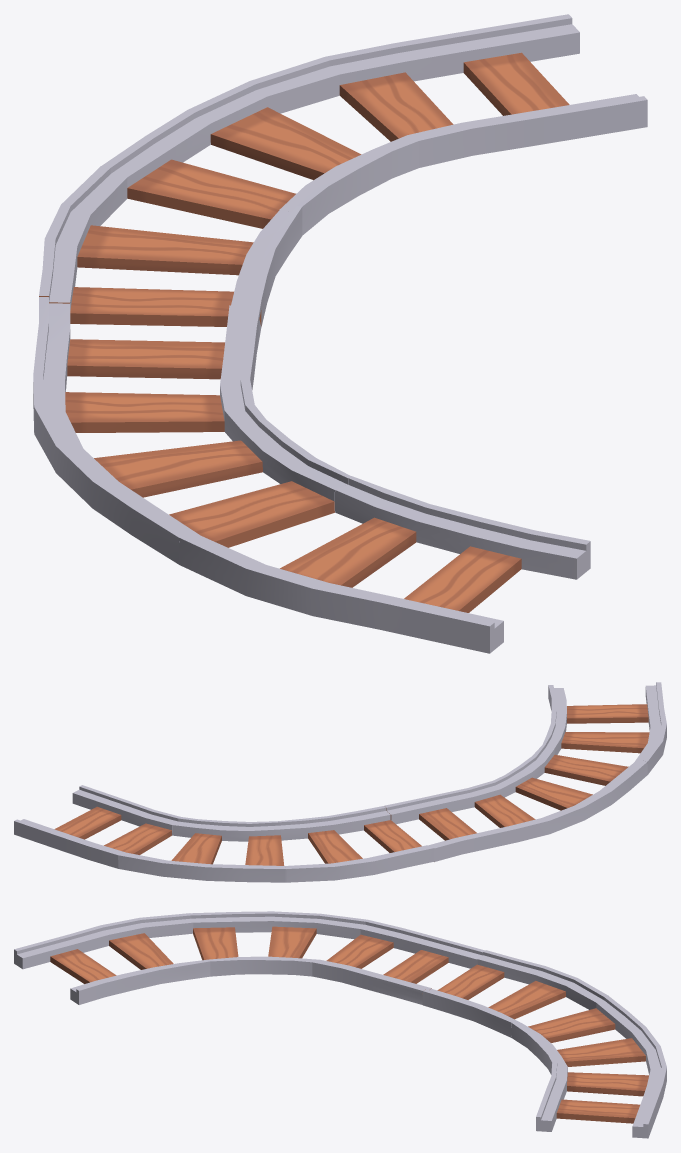
File: Rails_UShaped.fbx
3 views of the same model, one above another, from view 1: azimuth 30°, elevation 25°; view 2: azimuth 150°, elevation 25°; view 3: azimuth 270°, elevation 25° (orthographic). The views are drawn at different scales.
Visible parts, largest first — view 1: Cube.001; view 2: Cube.001; view 3: Cube.001.
Part boxes in pixels (left/top/right/bottom): Cube.001: left=33, top=14, right=647, bottom=653; Cube.001: left=14, top=682, right=666, bottom=882; Cube.001: left=14, top=911, right=666, bottom=1138.
Bounding box in the file's own units: 775 × 26.61 × 1004.
